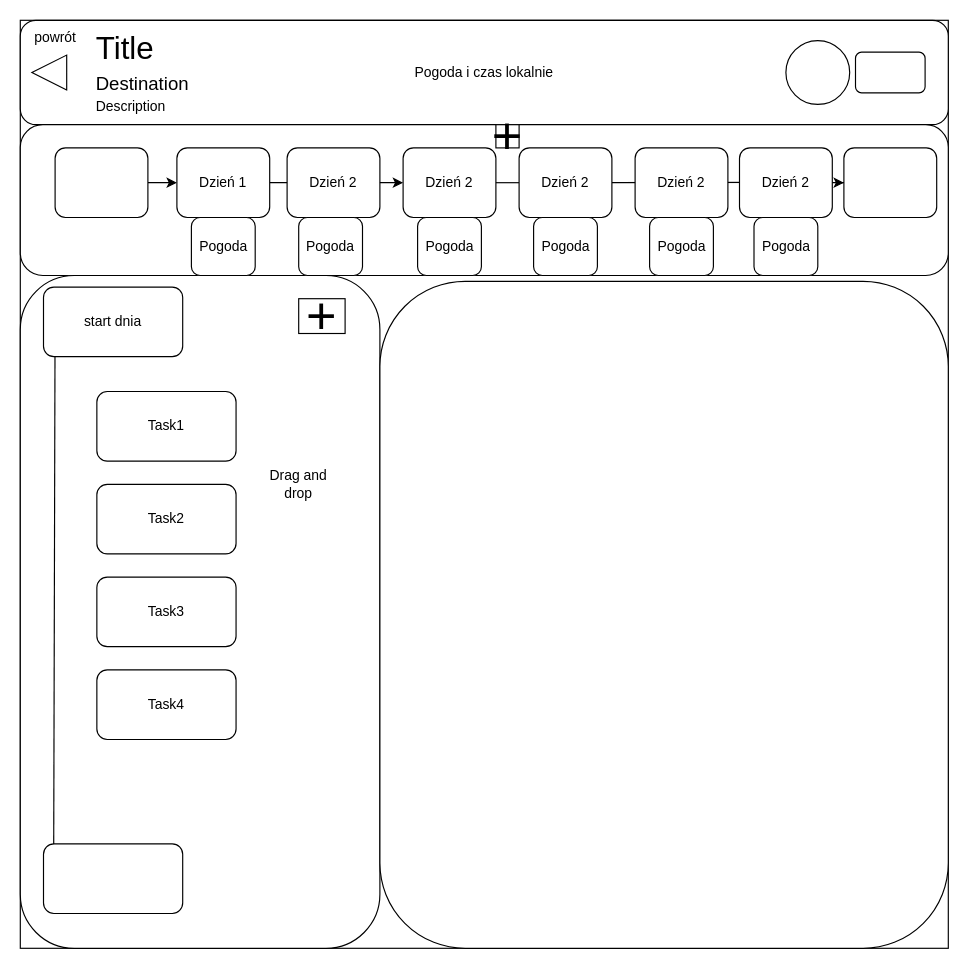
This 969x969 diagram has some shape labels left out. Here are the shapes that lost their labels. From the top down, the centre of each, then its label:
the point at 817,71: Settings
the point at 889,72: Logout
the point at 101,182: Start
the point at 890,182: Koniec
the point at 663,614: Mapa (soon...)
the point at 112,878: koniec dnia
